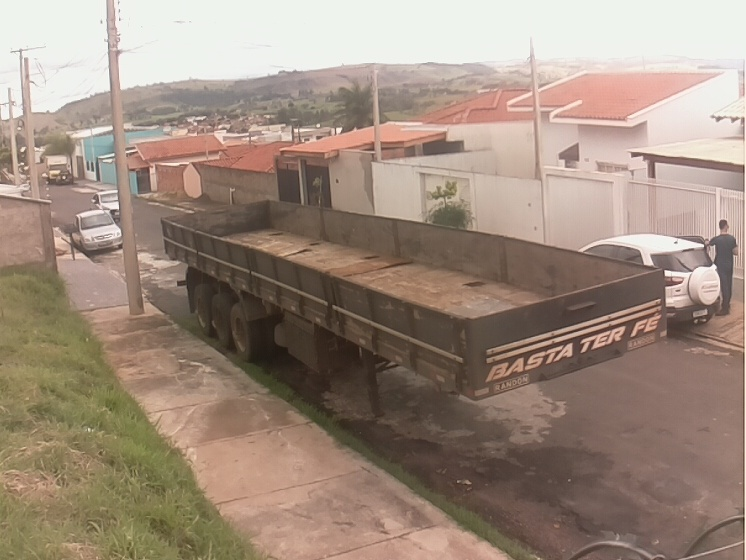person: (704, 218, 740, 318)
